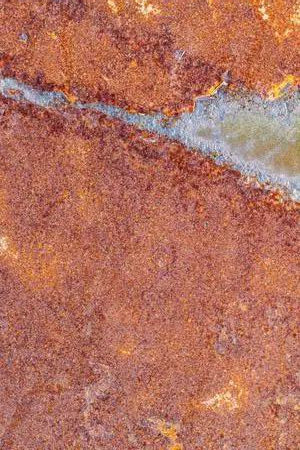Corrosion: (1, 88, 300, 450), (1, 1, 300, 128)
